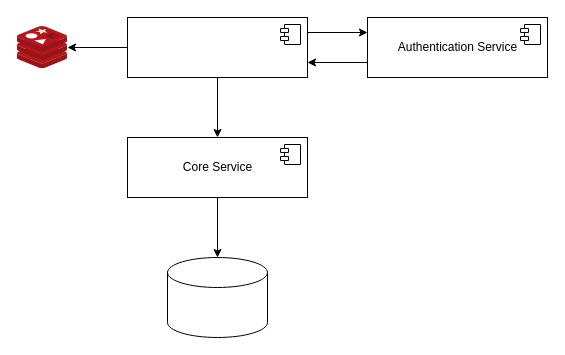
The diagram is 565 pixels wide and 355 high, and some of its shapes have lost their labels. Here are the shapes that lost their labels. From the top down, the centre of each, then its label:
At (x=217, y=47): "Business Service".
At (x=217, y=297): "DB".
